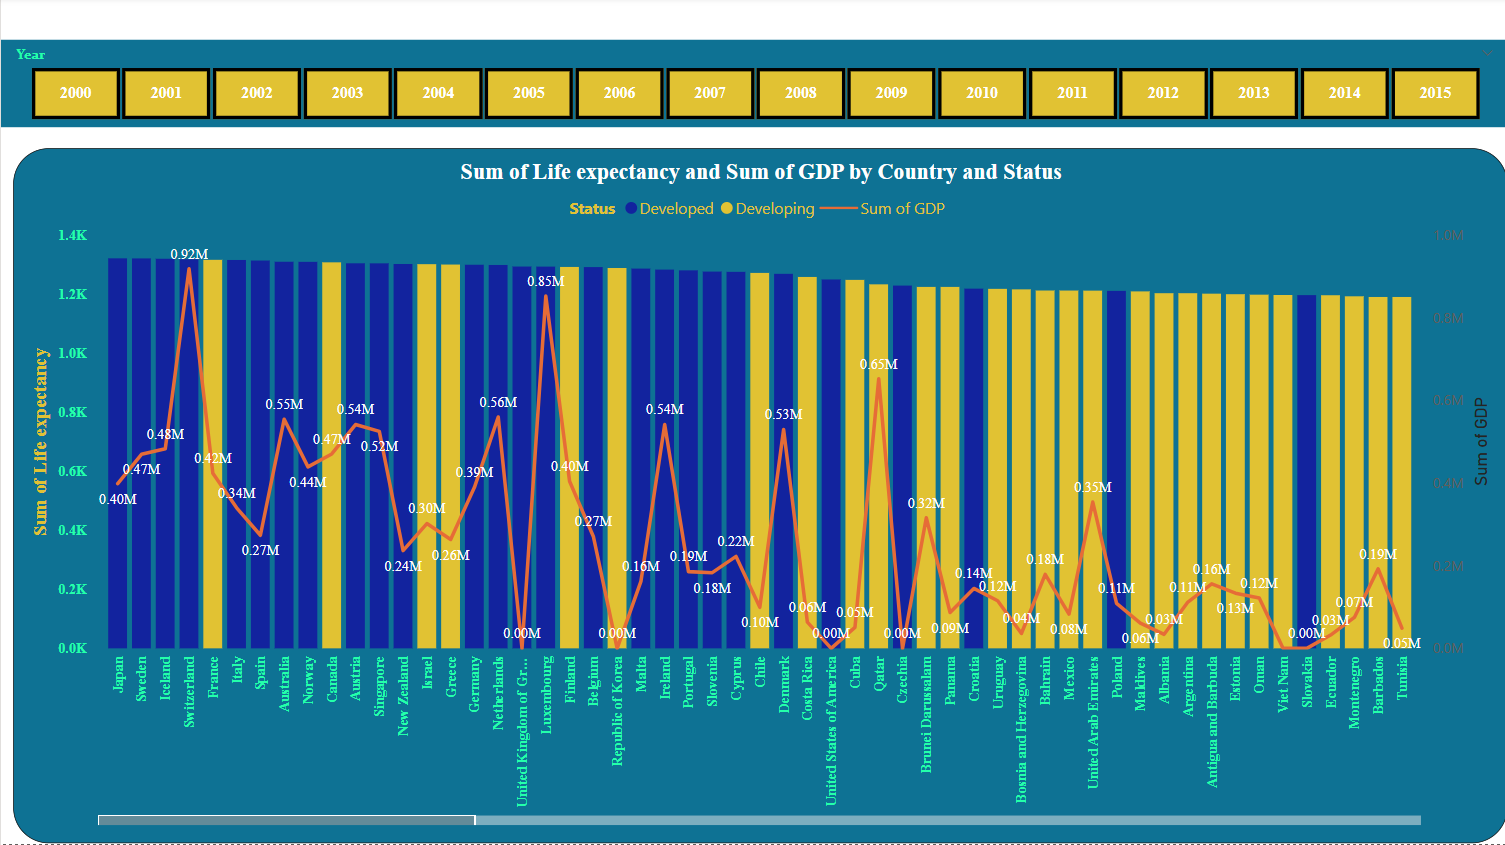

What the dashboard file says about the page in this screenshot:
{"tool":"powerbi","page":{"name":"Page 4","canvas":[1280,720],"ordinal":3},"visuals":[{"type":"lineStackedColumnComboChart","fields":{"Category":["Life Expectancy Data.Country"],"Y":["Sum(Life Expectancy Data.Life expectancy)"],"Y2":["Sum(Life Expectancy Data.GDP)"],"Series":["Life Expectancy Data.Status"]},"box":[10.4,129.3,1269.4,590.1],"z":0},{"type":"slicer","fields":{"Values":["Life Expectancy Data.Year"]},"box":[0,37.2,1279.8,74.3],"z":1}]}

Visuals, with their boxes in screenshot pixels (x1, y1, x2, y2), scaled from the page's 1280x720 canvas onto the 1505x845 screenshot:
lineStackedColumnComboChart - Life Expectancy Data.Country x Sum(Life Expectancy Data.Life expectancy): 12/152/1504/844
slicer - Life Expectancy Data.Year: 0/44/1504/131
